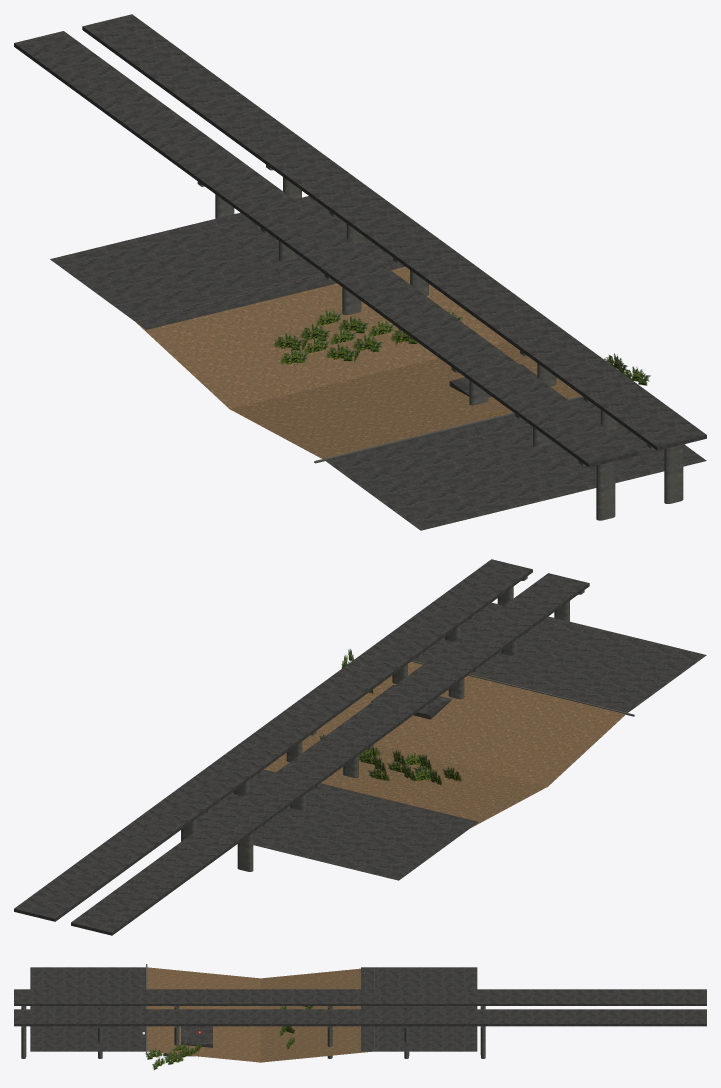
3 renders of one model, top to bottom at view 1: azimuth 30°, elevation 25°; view 2: azimuth 150°, elevation 25°; view 3: azimuth 270°, elevation 25°, orthographic. The views are drawn at different scales.
Parts seen in each view (by area): view 1: Cube, Plane.003, Plane.007, Plane.008, Plane.002, Plane, Plane.009, Plane.004, Cube.001, Plane.001; view 2: Cube, Plane.002, Plane.003, Plane.007, Plane.008, Plane.001, Plane, Plane.004, Cube.001, Plane.009; view 3: Cube, Plane.009, Plane.004, Plane, Plane.003, Plane.007, Plane.001, Plane.002, Plane.008, Cube.001, Cube.005.
Part boxes in pixels (bbox=[...]): Cube: bbox=[14, 14, 706, 467]; Plane.003: bbox=[50, 224, 287, 329]; Plane.007: bbox=[325, 426, 561, 530]; Plane.008: bbox=[136, 287, 370, 408]; Plane.002: bbox=[230, 374, 466, 458]; Plane: bbox=[466, 397, 706, 496]; Plane.009: bbox=[278, 258, 506, 374]; Plane.004: bbox=[195, 196, 404, 295]; Cube.001: bbox=[197, 164, 685, 520]; Plane.001: bbox=[371, 341, 581, 424]; Cube: bbox=[14, 559, 589, 935]; Plane.002: bbox=[429, 685, 625, 787]; Plane.003: bbox=[279, 792, 478, 880]; Plane.007: bbox=[508, 626, 706, 712]; Plane.008: bbox=[362, 758, 547, 828]; Plane.001: bbox=[317, 661, 508, 757]; Plane: bbox=[413, 602, 589, 683]; Plane.004: bbox=[197, 769, 358, 851]; Cube.001: bbox=[181, 576, 584, 871]; Plane.009: bbox=[254, 730, 430, 800]; Cube: bbox=[14, 989, 706, 1026]; Plane.009: bbox=[259, 1026, 374, 1062]; Plane.004: bbox=[361, 1009, 477, 1051]; Plane: bbox=[30, 1009, 145, 1051]; Plane.003: bbox=[361, 967, 477, 1008]; Plane.007: bbox=[30, 967, 145, 1008]; Plane.001: bbox=[147, 1009, 260, 1062]; Plane.002: bbox=[147, 967, 260, 1009]; Plane.008: bbox=[260, 967, 374, 1009]; Cube.001: bbox=[21, 1006, 485, 1058]; Cube.005: bbox=[163, 1026, 212, 1056].
Size of the model in its own units: 96.1 by 17.72 by 280.
Materials: 9 (6 with a texture image).
